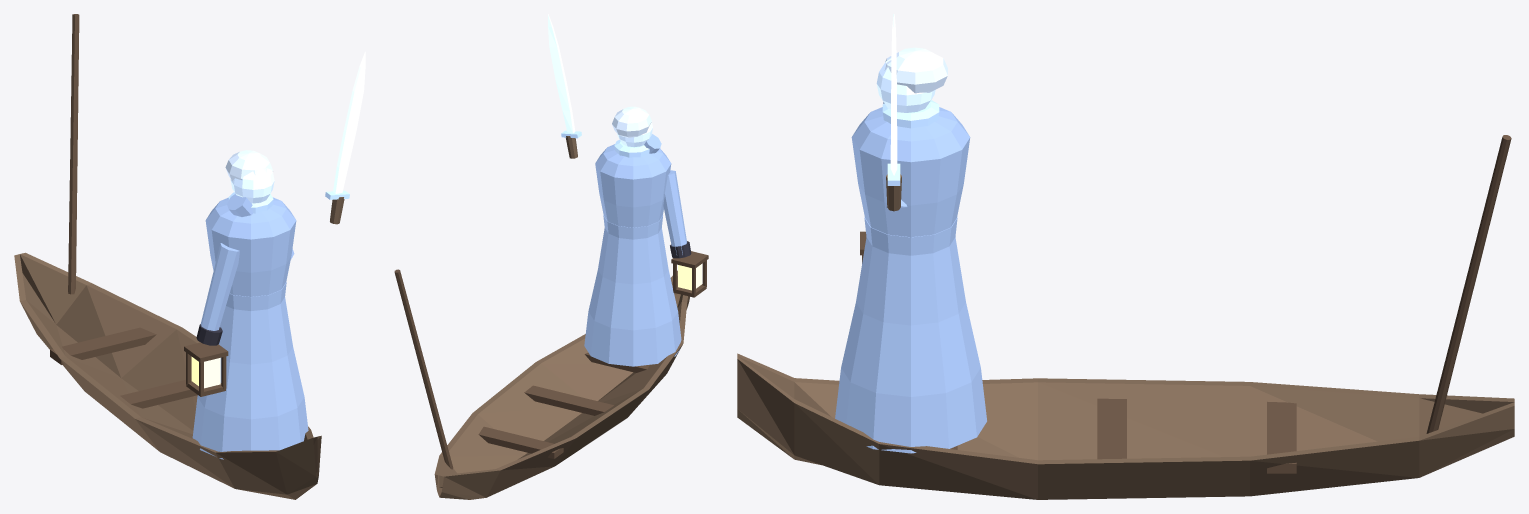
Rendered from summon_pido.glb.
The picture shows the model from 3 angles, left to right: view 1: azimuth 30°, elevation 25°; view 2: azimuth 150°, elevation 25°; view 3: azimuth 270°, elevation 25°; orthographic projection. The views are drawn at different scales.
Parts seen in each view (by area): view 1: BoatHull, CoatSkirt, CoatTorso, BoatThwarts, FerryPole, LeftArm, SundangBlade, LanternFrame, Head, CombedHair, LanternCore, RightArm; view 2: BoatHull, CoatSkirt, CoatTorso, BoatThwarts, FerryPole, LeftArm, SundangBlade, CombedHair, LanternFrame, LanternCore, BarongCollar, Head; view 3: BoatHull, CoatSkirt, CoatTorso, BoatThwarts, FerryPole, CombedHair, Head, SundangBlade, BarongCollar.
Part boxes in pixels (x1,y1,x2,y2): BoatHull: (14,252,321,499); CoatSkirt: (192,282,308,459); CoatTorso: (205,197,296,296); BoatThwarts: (50,327,197,408); FerryPole: (68,14,79,294); LeftArm: (200,243,239,330); SundangBlade: (333,51,365,193); LanternFrame: (184,342,228,396); Head: (230,161,274,203); CombedHair: (225,150,272,181); LanternCore: (191,357,220,388); RightArm: (227,194,294,259); BoatHull: (434,270,689,499); CoatSkirt: (584,215,681,366); CoatTorso: (595,144,671,227); BoatThwarts: (478,352,649,458); FerryPole: (394,269,453,469); LeftArm: (663,170,686,254); SundangBlade: (548,14,575,133); CombedHair: (612,106,651,137); LanternFrame: (671,251,708,297); LanternCore: (678,264,701,290); BarongCollar: (614,140,649,157); Head: (617,121,652,147); BoatHull: (737,353,1514,499); CoatSkirt: (835,217,986,453); CoatTorso: (851,107,970,237); BoatThwarts: (950,398,1296,473); FerryPole: (1426,135,1511,433); CombedHair: (884,47,947,93); Head: (876,58,935,112); SundangBlade: (890,14,897,175); BarongCollar: (882,100,939,128).
Size of the model in its own units: 1.27 by 2.8 by 3.67.
